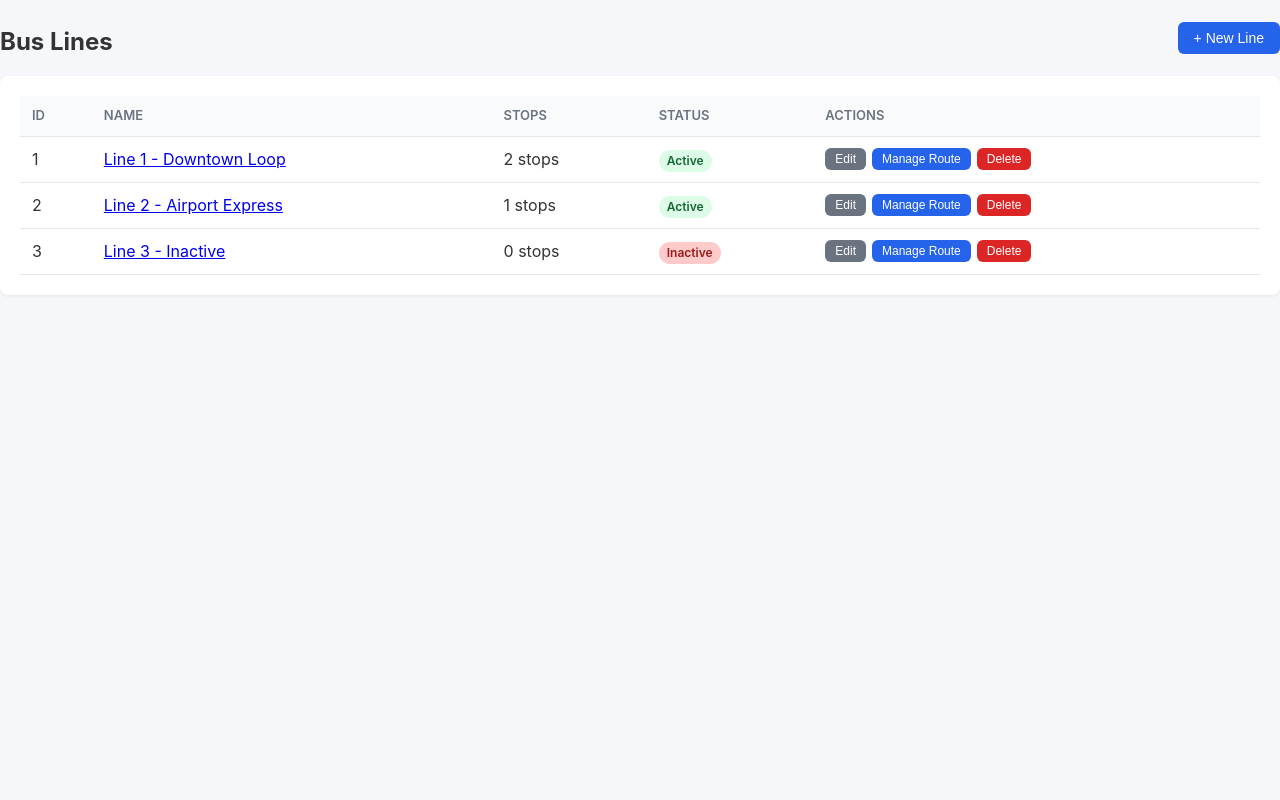
BusLines Page › closes modal when clicking Cancel
Click the button "+ New Line" at x=1229, y=38, box [1178, 22, 1279, 54]
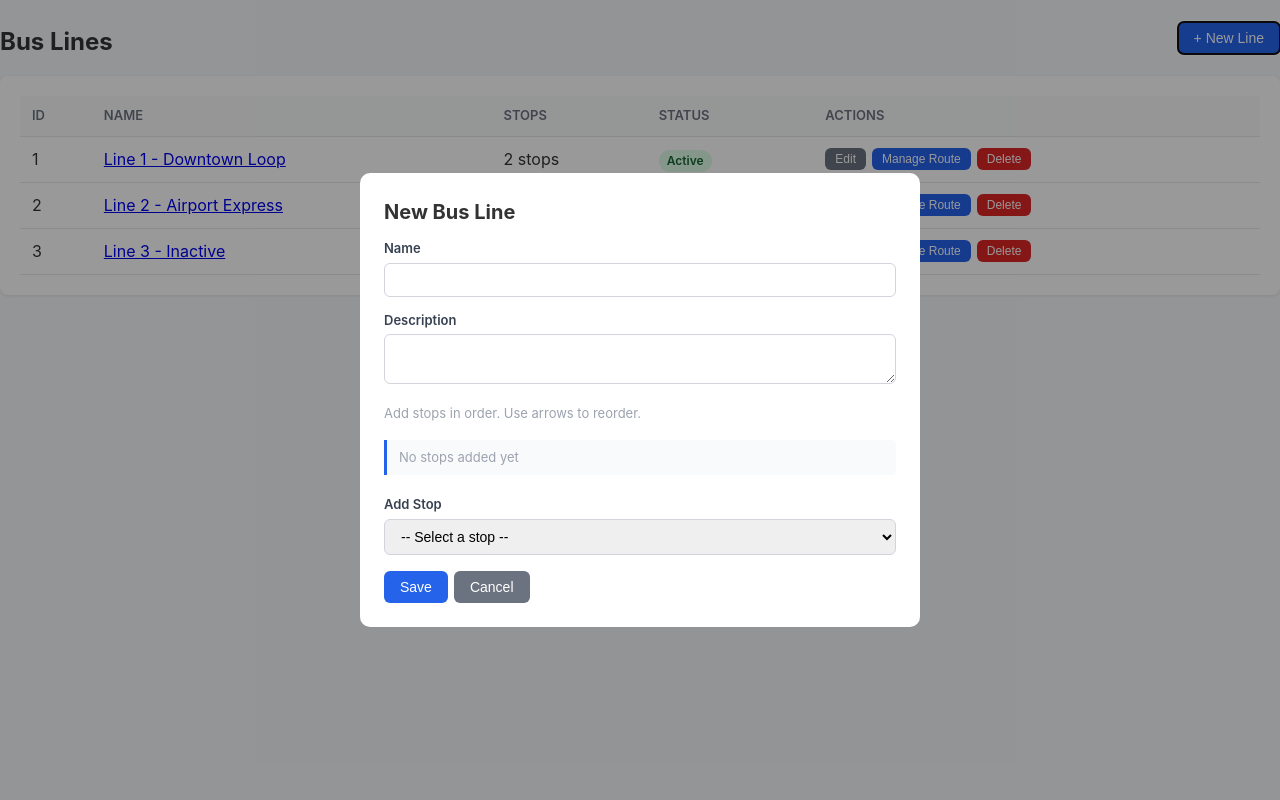
Check: the heading "New Bus Line" is shown, box [384, 200, 515, 224]
Click the button "Cancel" at x=492, y=587, box [454, 571, 530, 603]
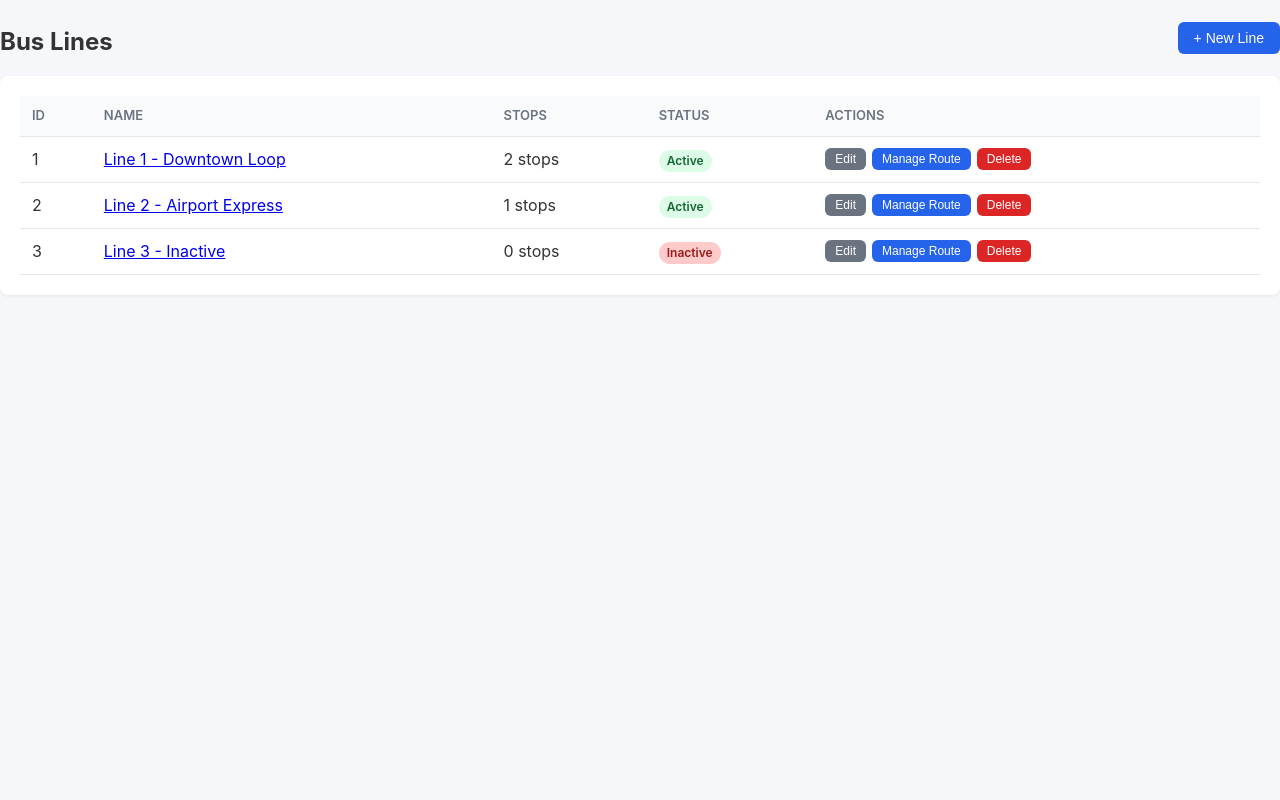
Check: the heading "New Bus Line" is gone
